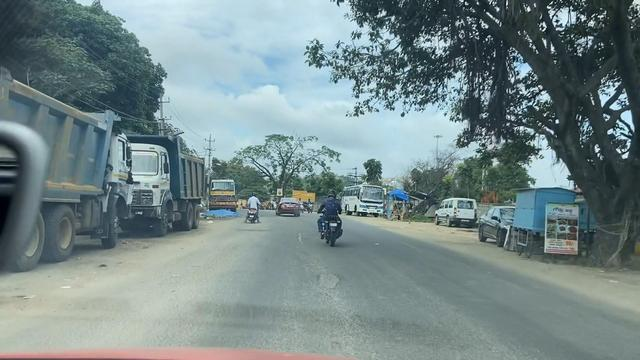HMV: (0, 76, 144, 267), (136, 127, 209, 231), (341, 179, 389, 223), (206, 169, 237, 213)
LMV: (314, 169, 363, 264), (428, 174, 482, 241), (236, 181, 266, 231), (272, 183, 308, 220), (304, 193, 320, 214)
RoadDamages: (310, 256, 348, 298), (287, 222, 311, 250)
